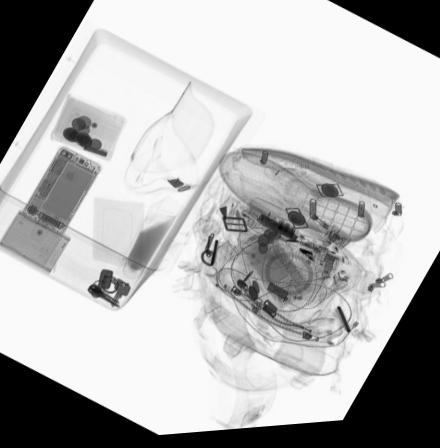Lighter: (239, 213, 283, 242)
